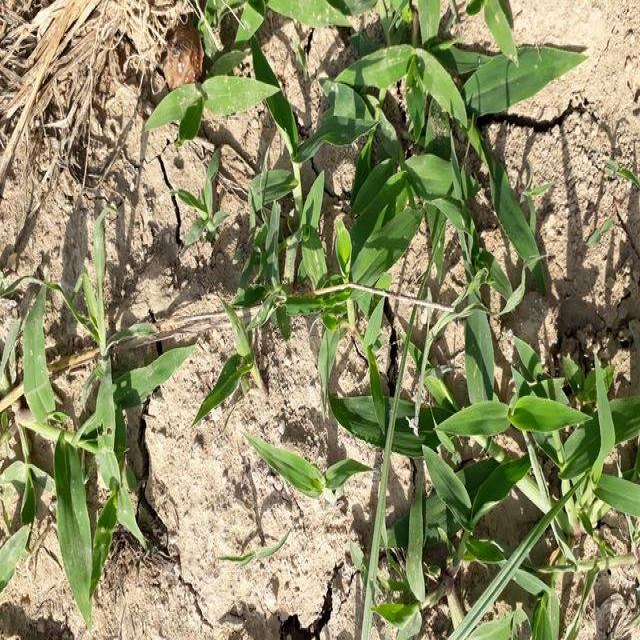weed: (328, 353, 639, 640), (276, 7, 538, 318), (16, 303, 141, 602), (192, 0, 346, 147), (136, 72, 284, 143), (246, 445, 371, 520), (157, 170, 239, 276), (204, 310, 258, 438)
